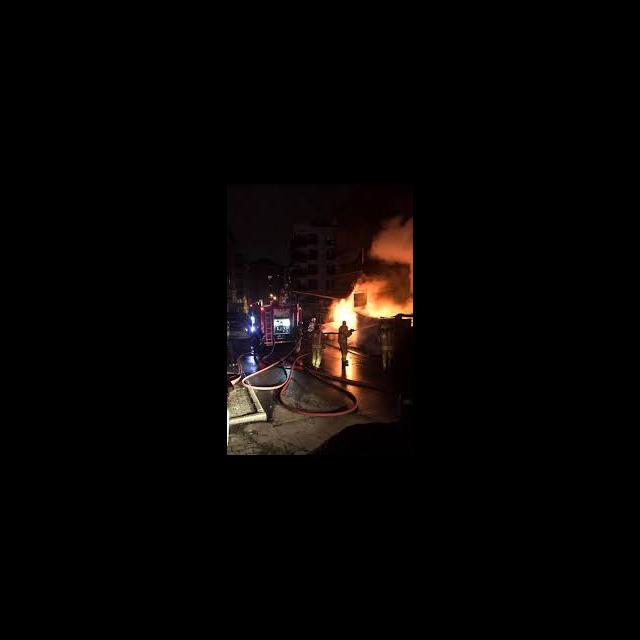Fire: (322, 290, 358, 328)
Smoke: (358, 220, 413, 318)
